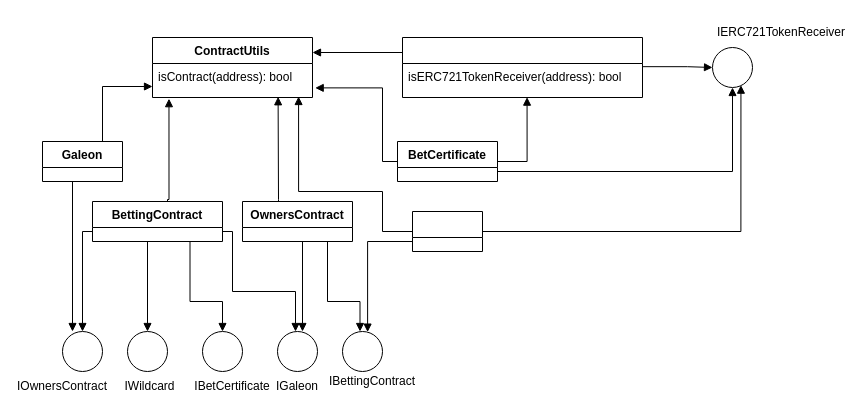
Image size: 867x418. Some labels were removed from this diagram. Each missing label, with the box of its shape:
ERC721Utils: (402, 36, 642, 98)
Wildcard: (412, 210, 482, 252)
